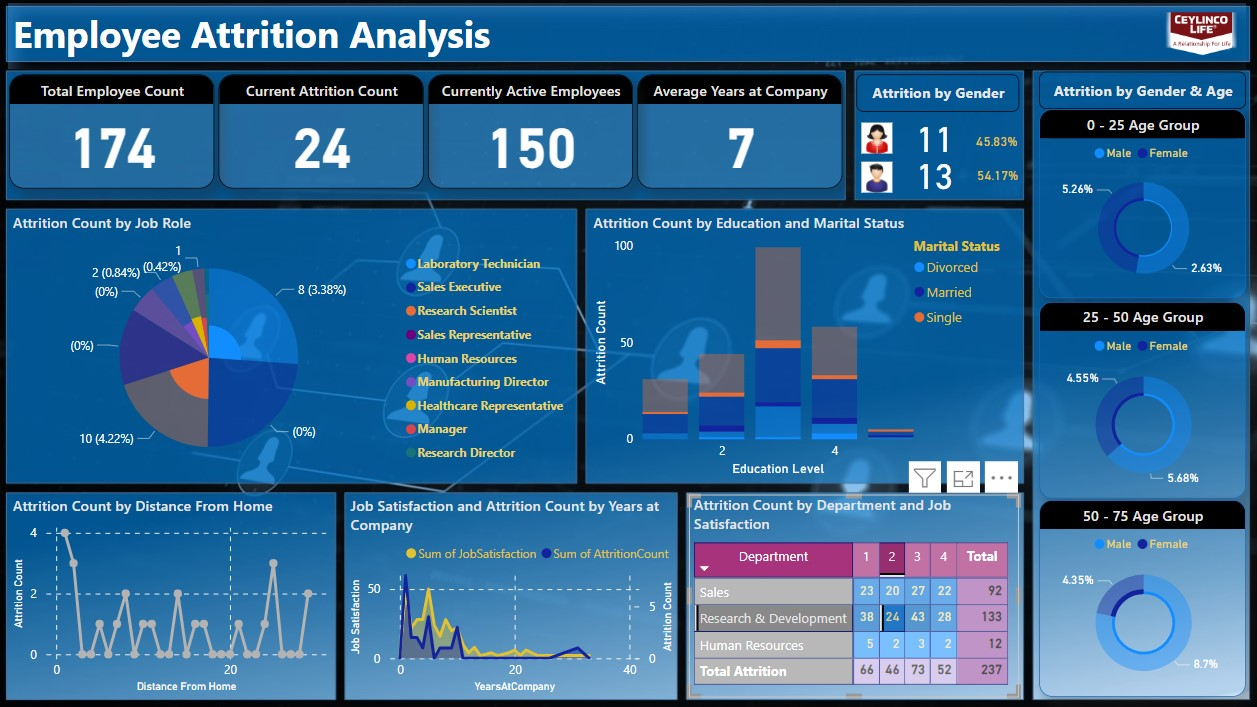

The page's visual inventory and layout, read from the dashboard file:
{"tool":"powerbi","page":{"name":"Page 1","canvas":[1280,720],"ordinal":0},"visuals":[{"type":"textbox","box":[9.9,4.3,1258.5,66.7],"z":0},{"type":"card","title":"Total Employee Count","fields":{"Values":["Sum(Employee Attrition.EmployeeCount)"]},"box":[11.4,76.6,208.6,116.3],"z":1000},{"type":"card","title":"Average Years at Company","fields":{"Values":["Employee Attrition.AverageYears"]},"box":[649.8,76.6,208.6,116.3],"z":2000},{"type":"card","title":"Current Attrition Count","fields":{"Values":["Sum(Employee Attrition.AttritionCount)"]},"box":[224.2,76.6,208.6,116.3],"z":3000},{"type":"card","title":"Currently Active Employees","fields":{"Values":["Employee Attrition.ActiveEmployees"]},"box":[437,76.6,208.6,116.3],"z":4000},{"type":"card","fields":{"Values":["Employee Attrition.FemaleAttritionCount"]},"box":[918,113.5,68.1,52.5],"z":5000},{"type":"card","fields":{"Values":["Employee Attrition.MaleAttritionCount"]},"box":[912.3,153.2,79.5,48.2],"z":6000},{"type":"card","fields":{"Values":["Employee Attrition.PerMaleAttrition"]},"box":[988.9,161.7,53.9,36.9],"z":7000},{"type":"card","fields":{"Values":["Employee Attrition.PerFemaleAttrition"]},"box":[980.6,129,69.4,33.1],"z":8000},{"type":"textbox","box":[873.1,76.1,165.4,38],"z":9000},{"type":"pieChart","title":"Attrition Count by Job Role","fields":{"Category":["Employee Attrition.JobRole"],"Y":["Sum(Employee Attrition.AttritionCount)"]},"box":[9.9,216.6,578.7,272.8],"z":10000},{"type":"columnChart","title":"Attrition Count by Education and Marital Status","fields":{"Category":["Employee Attrition.Education"],"Y":["Sum(Employee Attrition.AttritionCount)"],"Series":["Employee Attrition.MaritalStatus"]},"box":[600.2,217.1,438.4,272.4],"z":11000},{"type":"lineChart","title":"Attrition Count by Distance From Home","fields":{"Category":["Employee Attrition.DistanceFromHome"],"Y":["Sum(Employee Attrition.AttritionCount)"]},"box":[9.9,505.1,329.2,204.3],"z":12000},{"type":"areaChart","title":"Job Satisfaction and Attrition Count by Years at Company","fields":{"Y":["Sum(Employee Attrition.JobSatisfaction)"],"Y2":["Sum(Employee Attrition.AttritionCount)"],"Category":["Employee Attrition.YearsAtCompany"]},"box":[353.3,505.1,337.7,204.3],"z":13000},{"type":"pivotTable","title":"Attrition Count by Department and Job Satisfaction","fields":{"Rows":["Employee Attrition.Department"],"Columns":["Employee Attrition.JobSatisfaction"],"Values":["Sum(Employee Attrition.AttritionCount)"]},"box":[702.8,504.3,335.7,205],"z":14000},{"type":"image","box":[1177.6,8.5,90.8,56.8],"z":15000},{"type":"donutChart","title":"0 - 25 Age Group","fields":{"Category":["Employee Attrition.Gender"],"Series":["Employee Attrition.AgeBand"],"Y":["Sum(Employee Attrition.AttritionCount)"]},"box":[1058.3,112.4,210,191.8],"z":16000},{"type":"donutChart","title":"25 - 50 Age Group","fields":{"Category":["Employee Attrition.Gender"],"Series":["Employee Attrition.AgeBand"],"Y":["Sum(Employee Attrition.AttritionCount)"]},"box":[1058.5,306.5,210,200.1],"z":17000},{"type":"donutChart","title":"50 - 75 Age Group","fields":{"Category":["Employee Attrition.Gender"],"Series":["Employee Attrition.AgeBand"],"Y":["Sum(Employee Attrition.AttritionCount)"]},"box":[1058.3,509.3,210,200.1],"z":18000},{"type":"textbox","box":[1058.3,74.4,210,38],"z":19000},{"type":"image","box":[873.1,120.7,41.3,41.3],"z":20000},{"type":"image","box":[873.1,160.4,41.3,41.3],"z":21000}]}

Visuals, with their boxes in screenshot pixels (x1, y1, x2, y2), scaled from the page's 1280x720 canvas onto the 1257x707 screenshot:
textbox: 10 4 1246 70
"Total Employee Count" card: 11 75 216 189
"Average Years at Company" card: 638 75 843 189
"Current Attrition Count" card: 220 75 425 189
"Currently Active Employees" card: 429 75 634 189
card - Employee Attrition.FemaleAttritionCount: 902 111 968 163
card - Employee Attrition.MaleAttritionCount: 896 150 974 198
card - Employee Attrition.PerMaleAttrition: 971 159 1024 195
card - Employee Attrition.PerFemaleAttrition: 963 127 1031 159
textbox: 857 75 1020 112
"Attrition Count by Job Role" pieChart: 10 213 578 481
"Attrition Count by Education and Marital Status" columnChart: 589 213 1020 481
"Attrition Count by Distance From Home" lineChart: 10 496 333 697
"Job Satisfaction and Attrition Count by Years at Company" areaChart: 347 496 679 697
"Attrition Count by Department and Job Satisfaction" pivotTable: 690 495 1020 696
image: 1156 8 1246 64
"0 - 25 Age Group" donutChart: 1039 110 1246 299
"25 - 50 Age Group" donutChart: 1039 301 1246 497
"50 - 75 Age Group" donutChart: 1039 500 1246 697
textbox: 1039 73 1246 110
image: 857 119 898 159
image: 857 158 898 198
